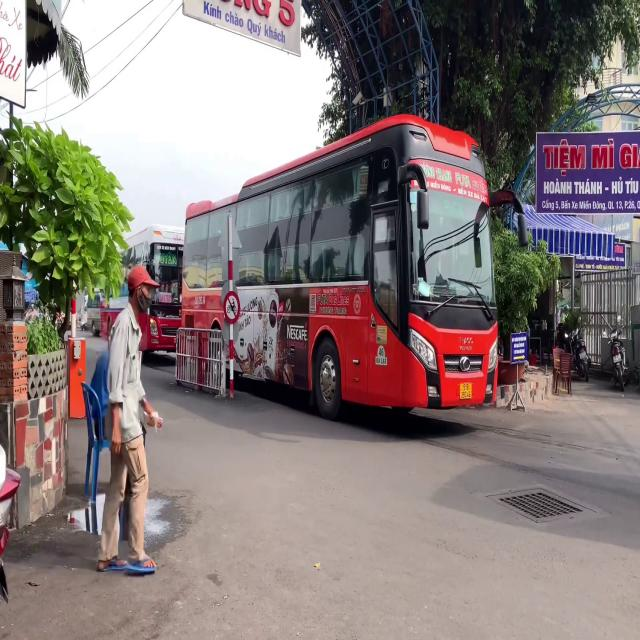bien_vang: (460, 382, 472, 399)
